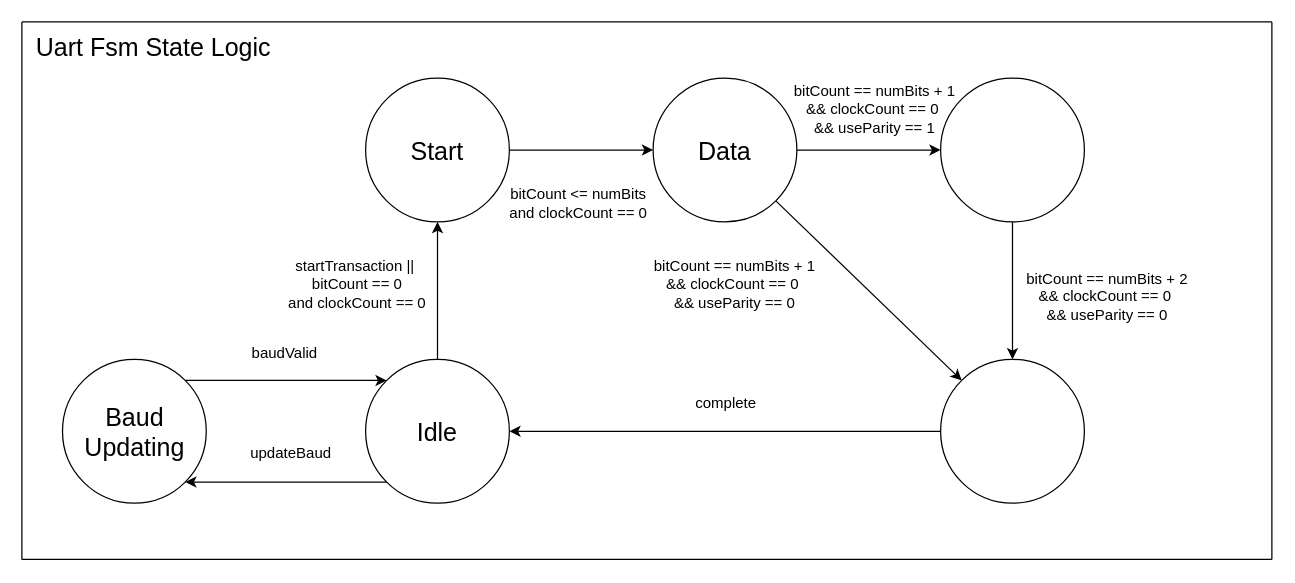
Image size: 1295x583. Some labels were removed from this diagram. The shapes that lost their labels are listed below. From the top down, each one's centre as x and y in pixels, then its label:
the point at 1011,149: Parity
the point at 1011,430: Stop
